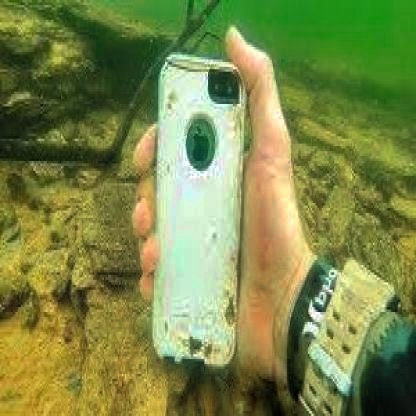cellphone: (151, 52, 247, 371)
